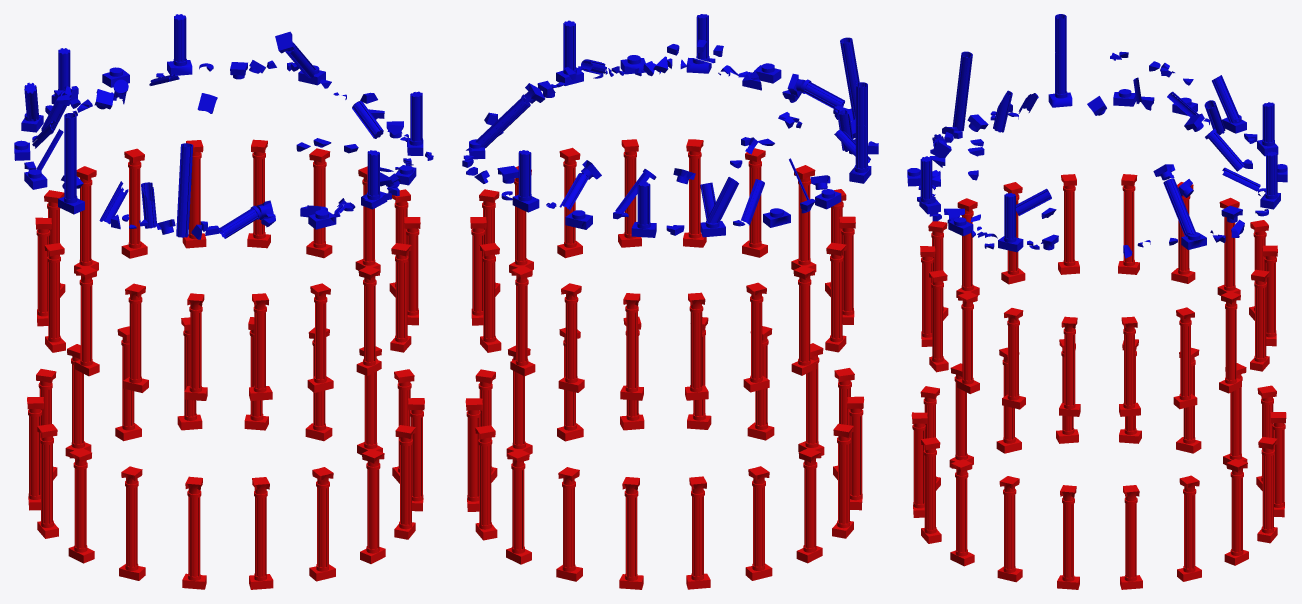
Rendered from bovenpilars_low.fbx.
3 views of the same model, side by side, from view 1: azimuth 30°, elevation 25°; view 2: azimuth 150°, elevation 25°; view 3: azimuth 270°, elevation 25° (orthographic). The views are drawn at different scales.
Parts seen in each view (by area): view 1: Cube.002, Cube.001, Cube.132_cell.133, Cube.132_cell.003, Cube.132_cell.045, Cube.132_cell.036, Cube.132_cell.088, Cube.132_cell.123, Cube.132_cell.030; view 2: Cube.002, Cube.001, Cube.132_cell.133, Cube.132_cell.110, Cube.132_cell.086, Cube.132_cell.036, Cube.132_cell.045, Cube.132_cell.076, Cube.132_cell.123, Cube.132_cell.030, Cube.132_cell.003; view 3: Cube.002, Cube.001, Cube.132_cell.133, Cube.132_cell.110, Cube.132_cell.003, Cube.132_cell.086, Cube.132_cell.045, Cube.132_cell.036, Cube.132_cell.076.
Boxes of the visible parts, box(x1,y1,x2,y2) form: Cube.002: box(27, 317, 424, 589); Cube.001: box(35, 139, 420, 400); Cube.132_cell.133: box(176, 143, 193, 237); Cube.132_cell.003: box(364, 150, 382, 206); Cube.132_cell.045: box(410, 91, 422, 141); Cube.132_cell.036: box(174, 14, 186, 62); Cube.132_cell.088: box(141, 182, 156, 228); Cube.132_cell.123: box(64, 113, 76, 157); Cube.132_cell.030: box(64, 155, 76, 203); Cube.002: box(465, 316, 864, 589); Cube.001: box(470, 139, 855, 400); Cube.132_cell.133: box(840, 37, 859, 119); Cube.132_cell.110: box(475, 98, 530, 148); Cube.132_cell.086: box(705, 177, 738, 223); Cube.132_cell.036: box(518, 150, 531, 197); Cube.132_cell.045: box(563, 20, 575, 70); Cube.132_cell.076: box(637, 182, 650, 224); Cube.132_cell.123: box(855, 82, 867, 126); Cube.132_cell.030: box(855, 124, 867, 168); Cube.132_cell.003: box(696, 14, 715, 63); Cube.002: box(911, 339, 1286, 589); Cube.001: box(920, 174, 1277, 416); Cube.132_cell.133: box(952, 51, 972, 131); Cube.132_cell.110: box(1163, 178, 1195, 236); Cube.132_cell.003: box(917, 156, 932, 203); Cube.132_cell.086: box(1212, 75, 1239, 123); Cube.132_cell.045: box(1004, 193, 1015, 239); Cube.132_cell.036: box(1266, 151, 1277, 195); Cube.132_cell.076: box(1262, 102, 1274, 142).
Bounding box in the file's own units: 1563 × 1898 × 1561.
